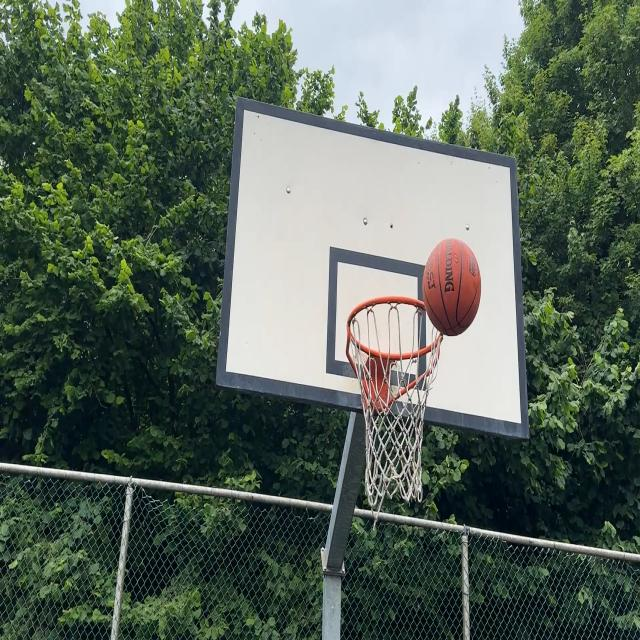rebound_hit: (423, 239, 481, 336)
